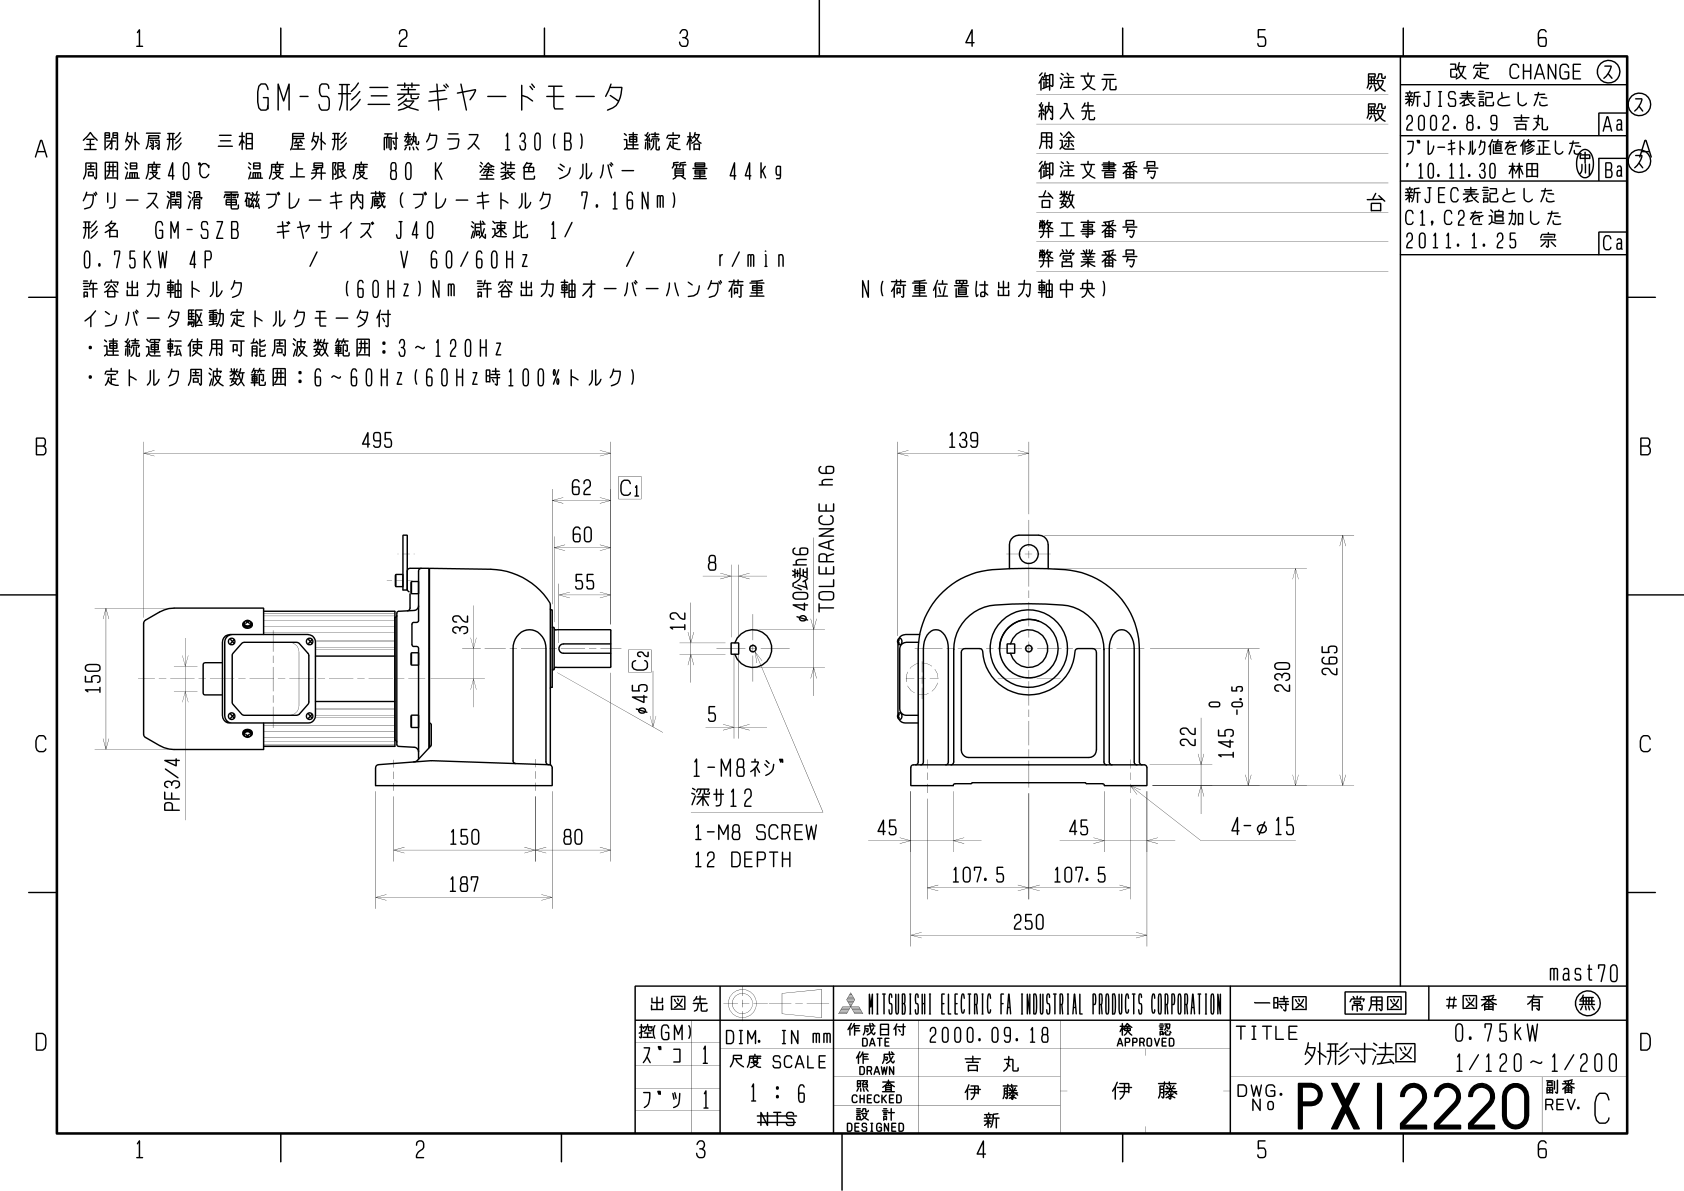GM_S_インバタ屋外＿三相_脚: (71, 402, 1383, 962)
